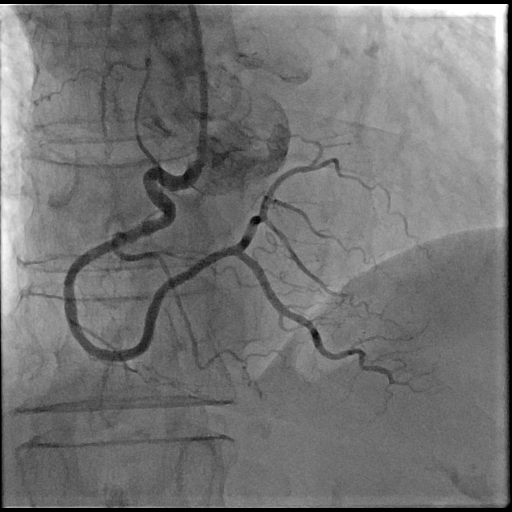RCA: (64, 159, 387, 374)
catherter: (179, 5, 208, 189)
